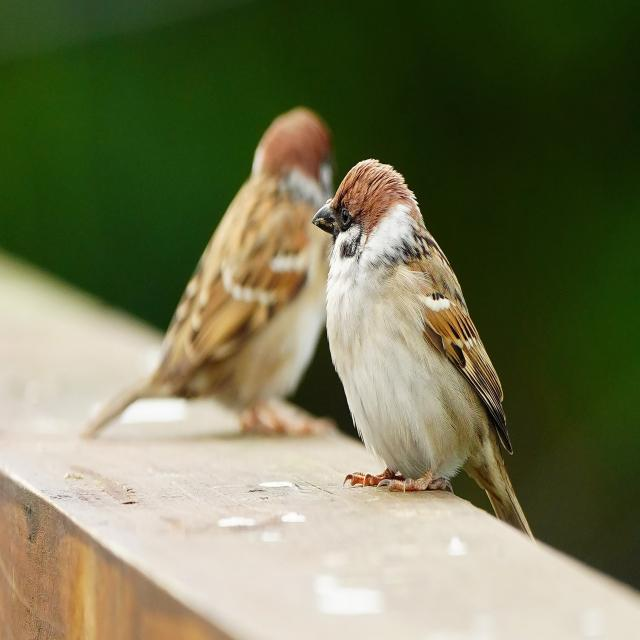brid: (176, 59, 377, 526), (321, 165, 500, 549)
